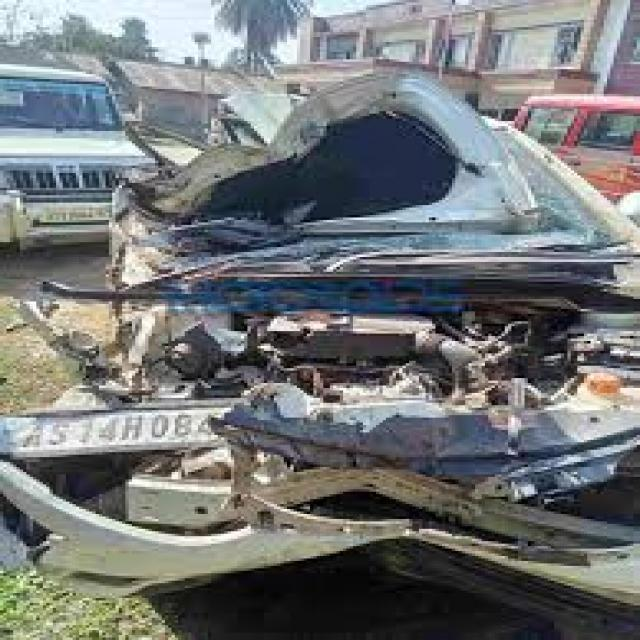severe: (71, 57, 640, 574)
